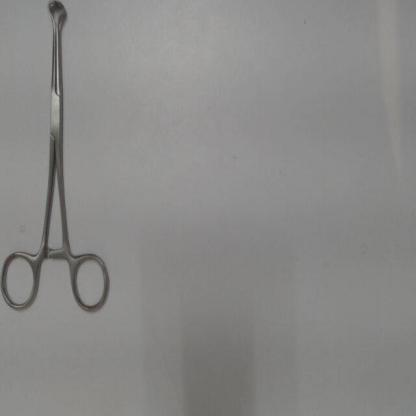Babcock Tissue Forceps: (0, 0, 114, 315)
